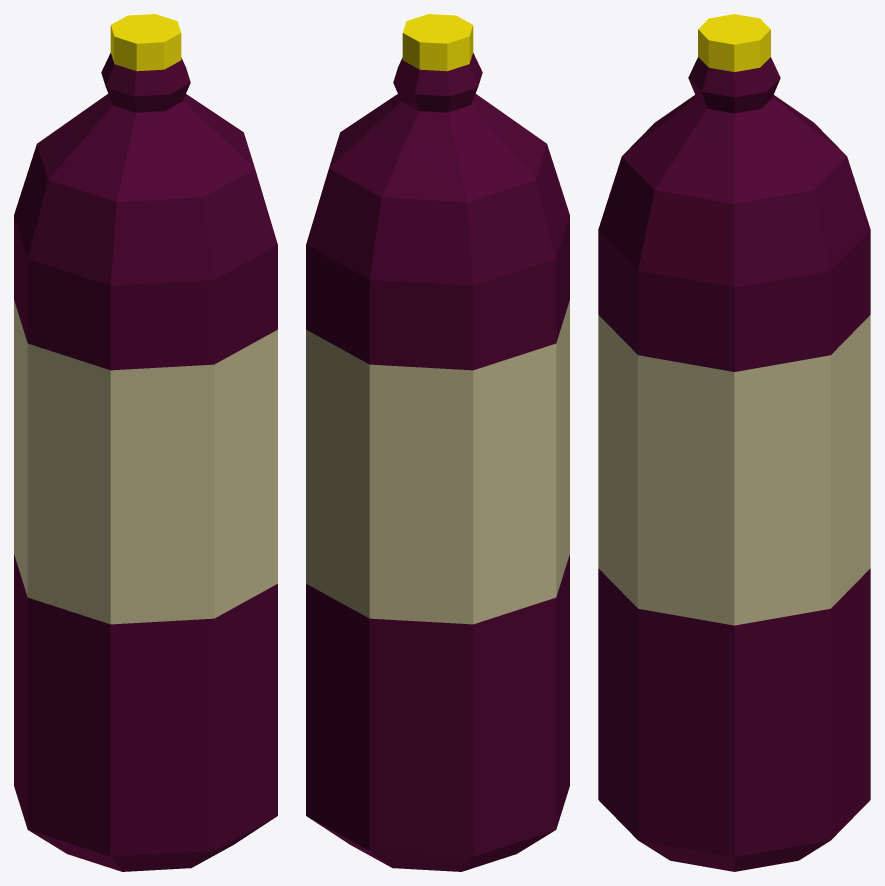
The model's file is CheapWine.fbx.
3 renders of one model, left to right at view 1: azimuth 30°, elevation 25°; view 2: azimuth 150°, elevation 25°; view 3: azimuth 270°, elevation 25°, orthographic.
Parts seen in each view (by area): view 1: CheapWine; view 2: CheapWine; view 3: CheapWine.
Boxes of the visible parts, <box> form: CheapWine: <box>14,14,277,871</box>; CheapWine: <box>306,14,569,871</box>; CheapWine: <box>598,14,870,871</box>.
Size of the model in its own units: 0.09 by 0.09 by 0.2929.
